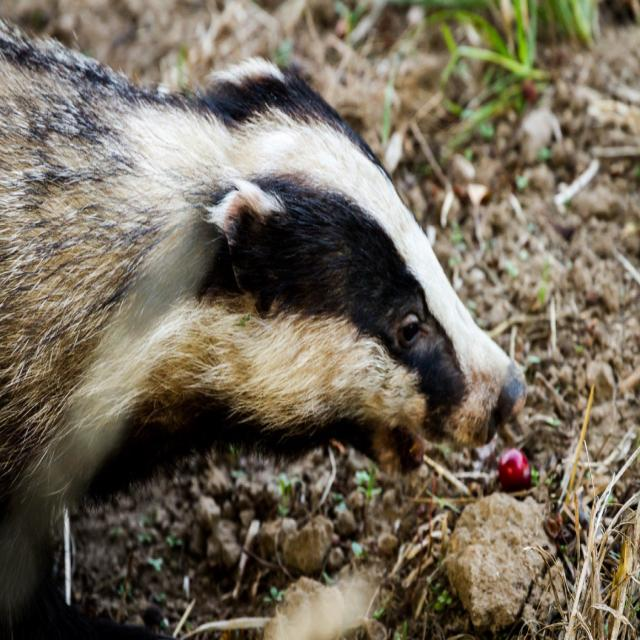Badger: (0, 7, 526, 584)
